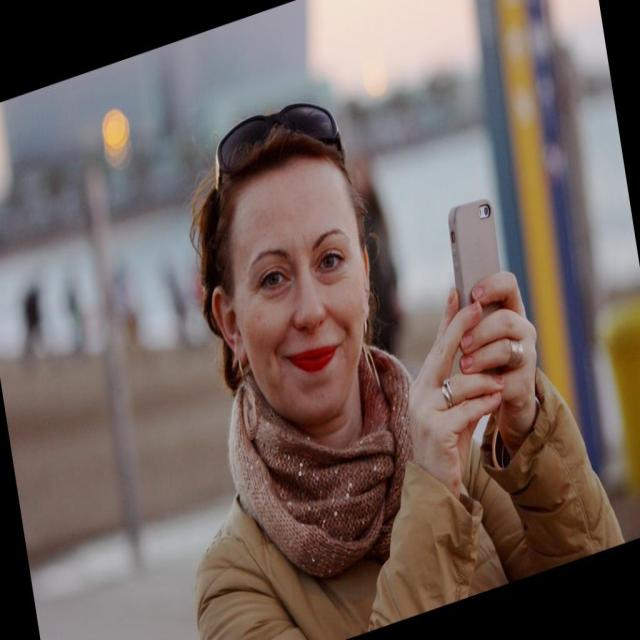phone: (450, 198, 500, 320)
